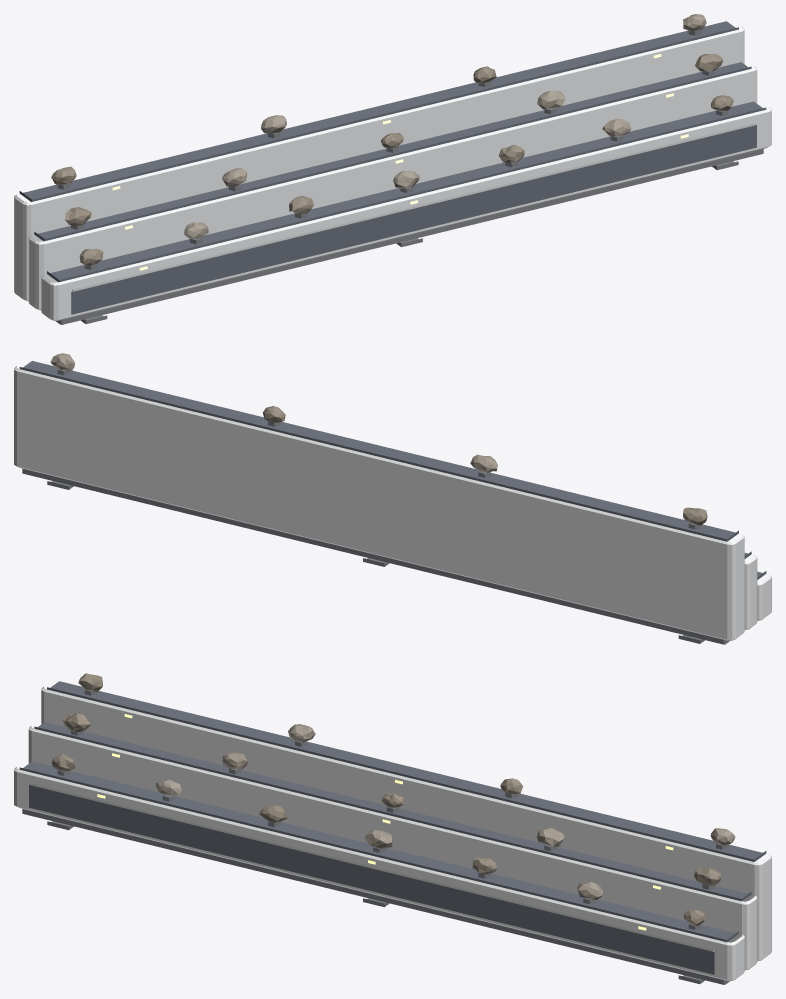
Rendered from ext_ts4_dead_foliage_03.glb.
The picture shows the model from 3 angles, top to bottom: view 1: azimuth 30°, elevation 25°; view 2: azimuth 150°, elevation 25°; view 3: azimuth 330°, elevation 25°; orthographic projection.
Visible parts, largest first — view 1: Tiers, Tier_Lids, Reservoir, Base_Frame, Foliage, Foliage_Light, Reservoir_Seal, Net_Cup_Clips; view 2: Tiers, Tier_Lids, Base_Frame, Foliage_Light, Foliage; view 3: Tiers, Tier_Lids, Reservoir, Base_Frame, Foliage, Foliage_Light, Reservoir_Seal, Net_Cup_Clips.
Boxes of the visible parts, x1=… form: Tiers: x1=14, y1=26, x2=771, y2=320; Tier_Lids: x1=19, y1=21, x2=766, y2=282; Reservoir: x1=71, y1=125, x2=756, y2=314; Base_Frame: x1=56, y1=149, x2=763, y2=324; Foliage: x1=51, y1=54, x2=733, y2=266; Foliage_Light: x1=184, y1=14, x2=706, y2=238; Reservoir_Seal: x1=72, y1=123, x2=755, y2=291; Net_Cup_Clips: x1=57, y1=30, x2=728, y2=269; Tiers: x1=14, y1=366, x2=771, y2=640; Tier_Lids: x1=19, y1=361, x2=766, y2=579; Base_Frame: x1=22, y1=468, x2=730, y2=644; Foliage_Light: x1=50, y1=353, x2=497, y2=473; Foliage: x1=262, y1=406, x2=707, y2=525; Tiers: x1=14, y1=686, x2=771, y2=980; Tier_Lids: x1=19, y1=681, x2=766, y2=942; Reservoir: x1=29, y1=785, x2=714, y2=974; Base_Frame: x1=22, y1=809, x2=729, y2=984; Foliage: x1=51, y1=673, x2=721, y2=926; Foliage_Light: x1=156, y1=724, x2=735, y2=900; Reservoir_Seal: x1=30, y1=783, x2=713, y2=951; Net_Cup_Clips: x1=57, y1=690, x2=728, y2=929.
Size of the model in its own units: 4 by 0.6859 by 0.406.
